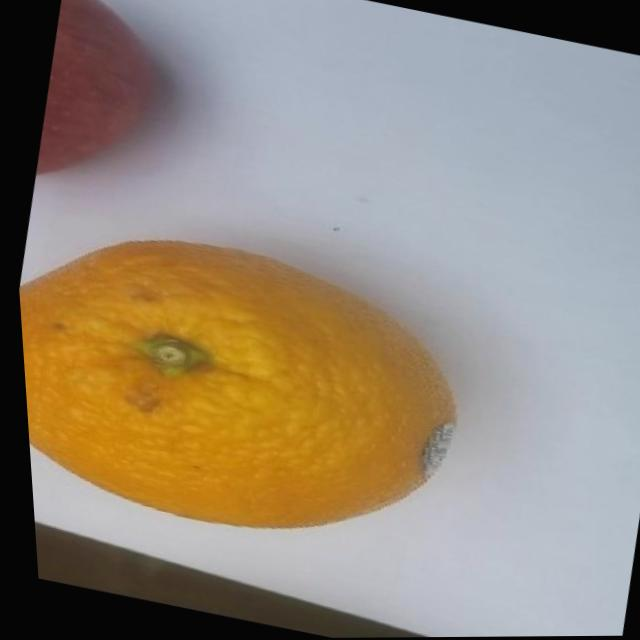Apple: (24, 0, 175, 194)
Orange: (11, 200, 484, 575)
